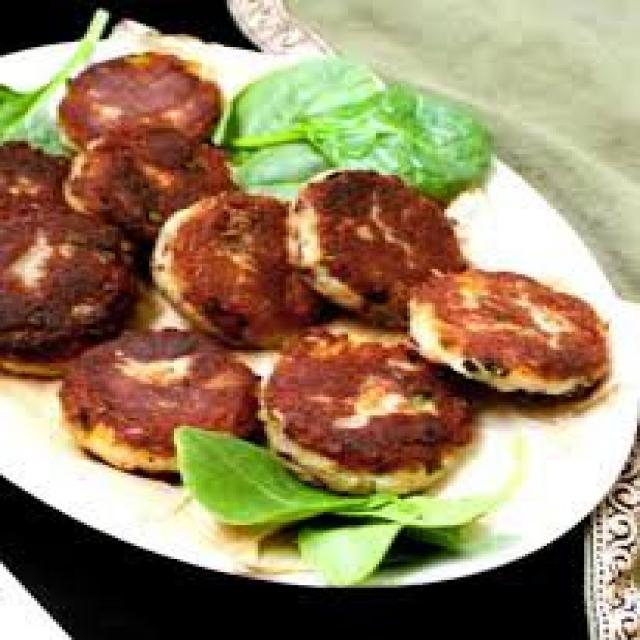Aloo Tikki: (264, 318, 477, 497), (61, 328, 258, 478), (154, 194, 338, 349), (0, 200, 148, 381), (285, 168, 465, 314), (414, 266, 608, 400), (65, 131, 235, 242), (61, 54, 224, 158), (0, 138, 65, 206)
